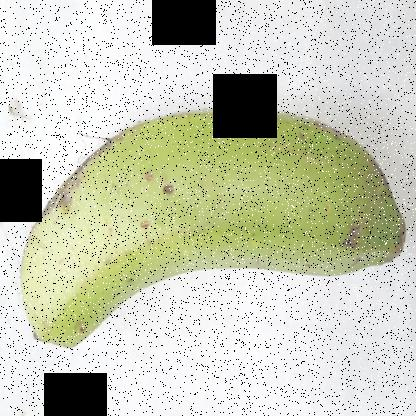unripe: (9, 81, 401, 372)
